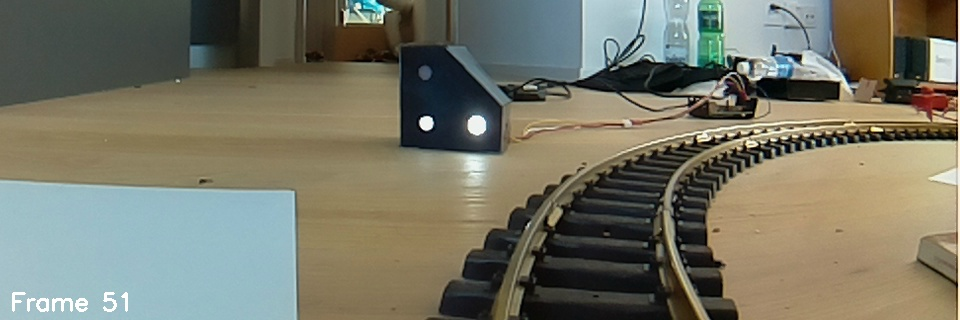Halt: (396, 40, 510, 156)
